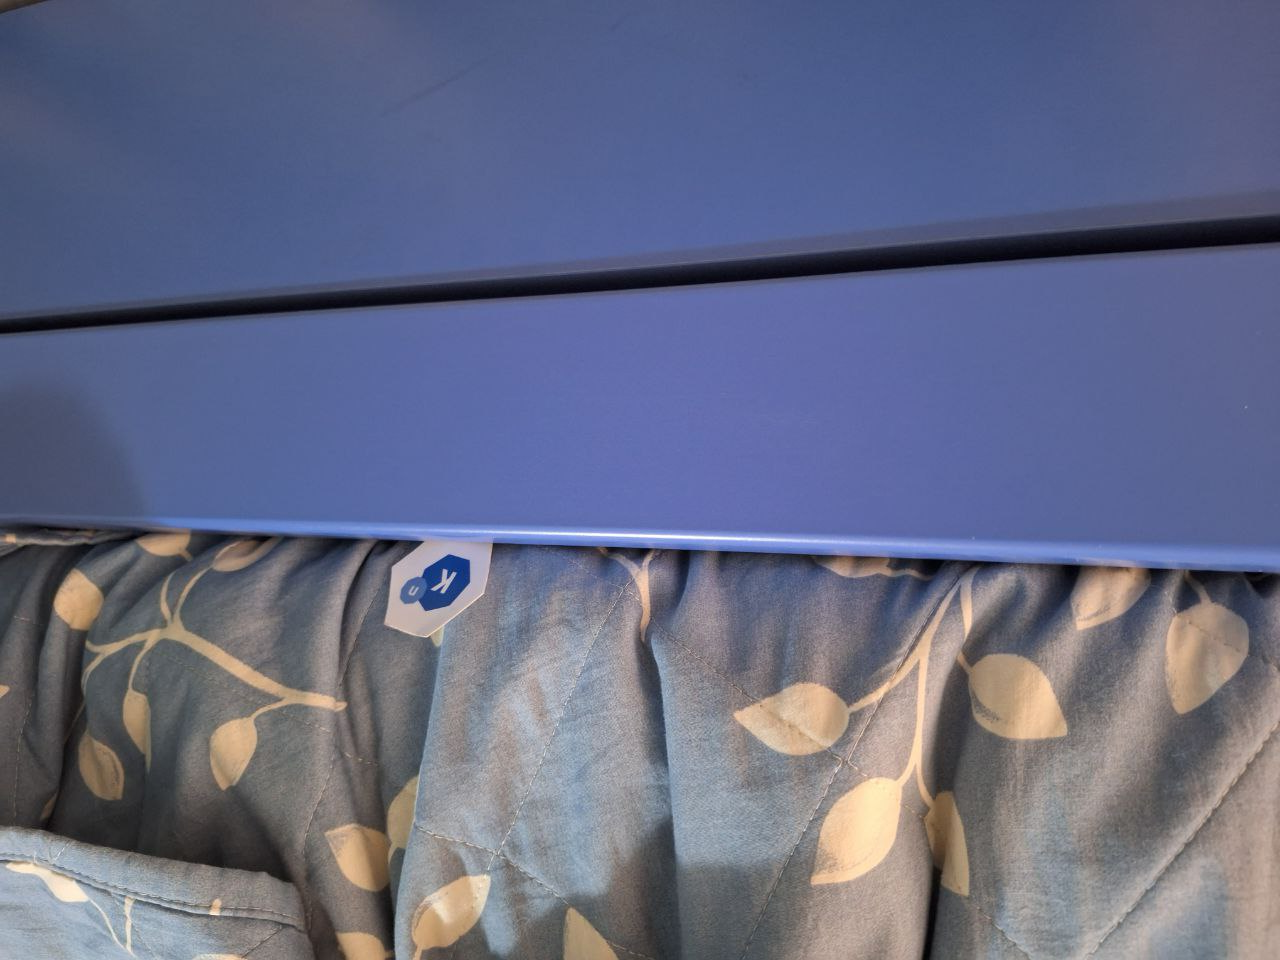knative: (398, 554, 470, 618)
